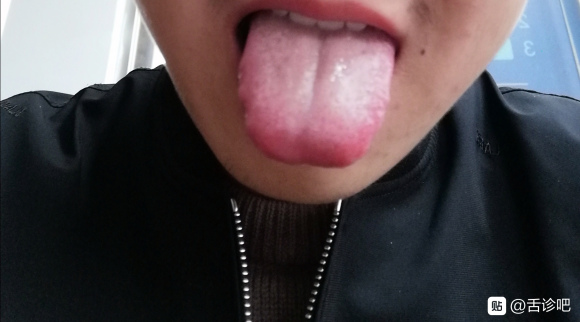baitaishe: (238, 13, 395, 168)
hongshe: (238, 13, 395, 168)
